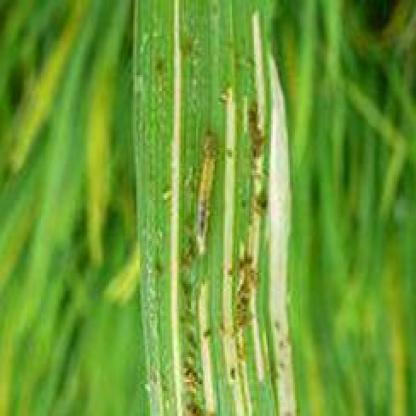leaf-folder: (190, 148, 223, 268)
